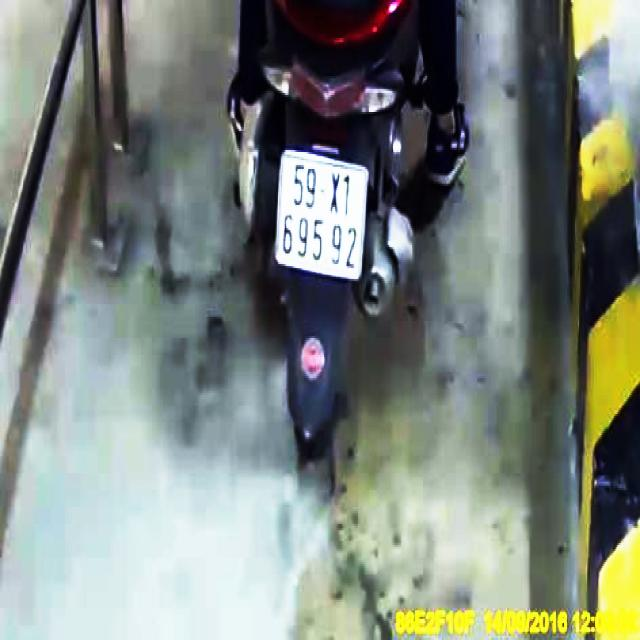license_plate: (279, 151, 369, 278)
